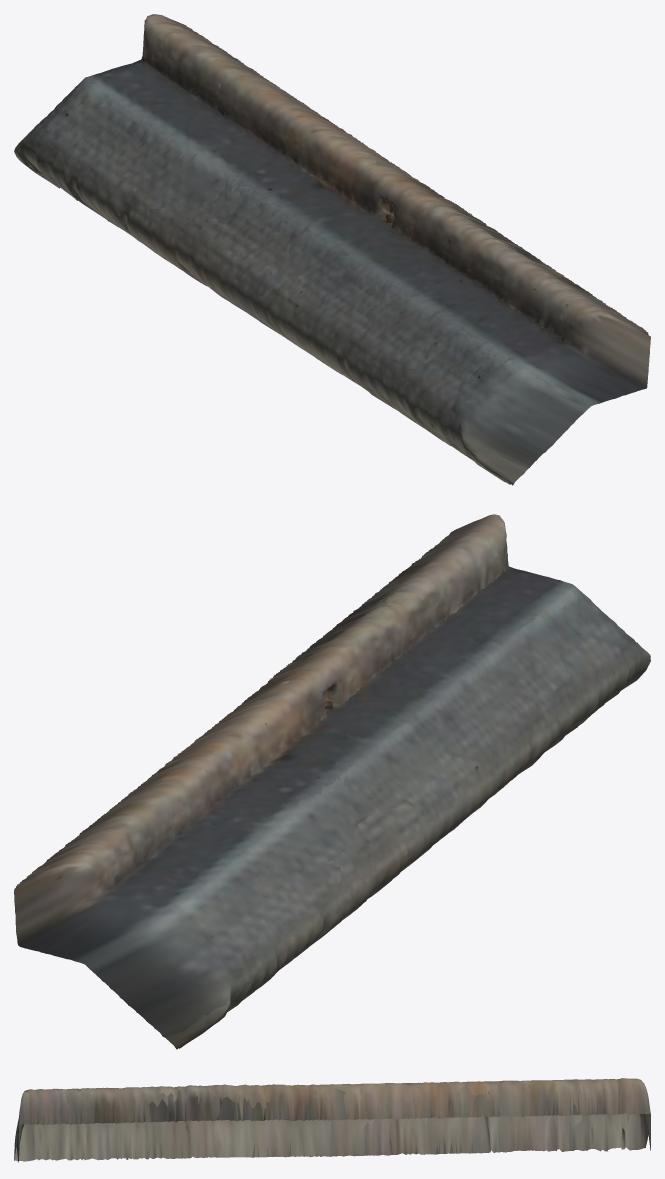
File: run4_p2_c18.glb
3 views of the same model, one above another, from view 1: azimuth 30°, elevation 25°; view 2: azimuth 150°, elevation 25°; view 3: azimuth 270°, elevation 25° (orthographic). The views are drawn at different scales.
Parts seen in each view (by area): view 1: run4_p2_straight_c18; view 2: run4_p2_straight_c18; view 3: run4_p2_straight_c18.
Boxes of the visible parts, x1,y1,x2,y2 form: run4_p2_straight_c18: [14, 14, 650, 485]; run4_p2_straight_c18: [14, 514, 650, 1049]; run4_p2_straight_c18: [14, 1078, 650, 1162].
Bounding box in the file's own units: 5.82 × 3.76 × 20.24.
1 material, 1 textured.
